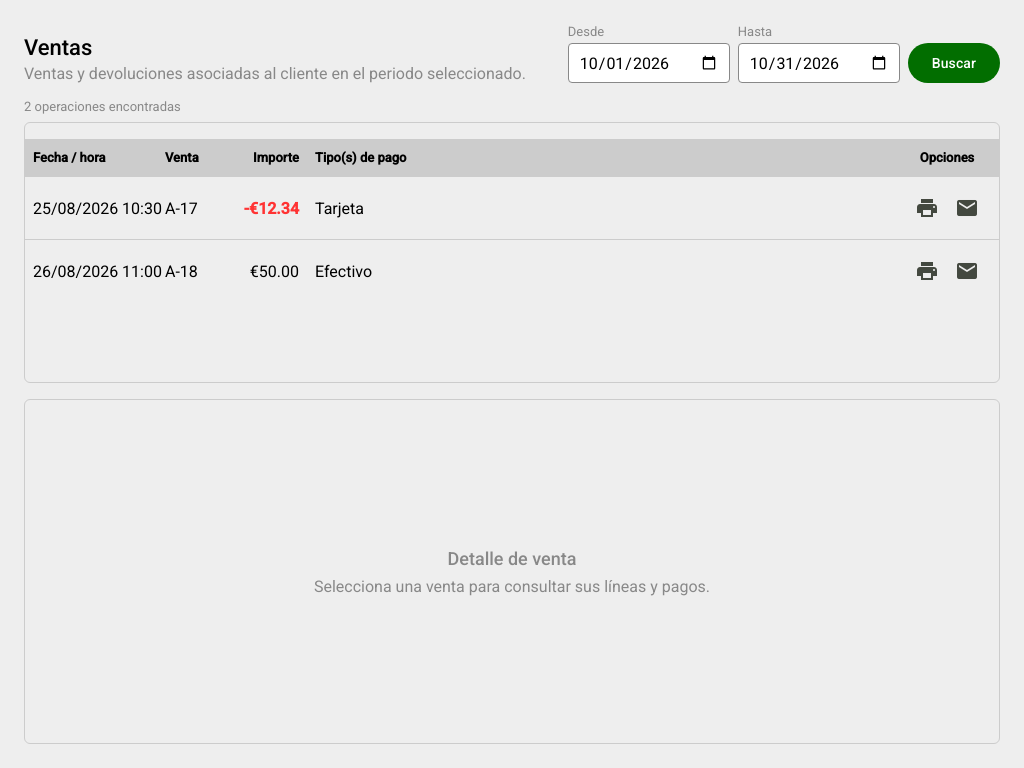
Test case: ClientSalesComponent › selecciona una venta y muestra su detalle en modo documental
Click the row with class "client-sales__row" that starts with "A-17" at (512, 208), box [25,176,999,240]
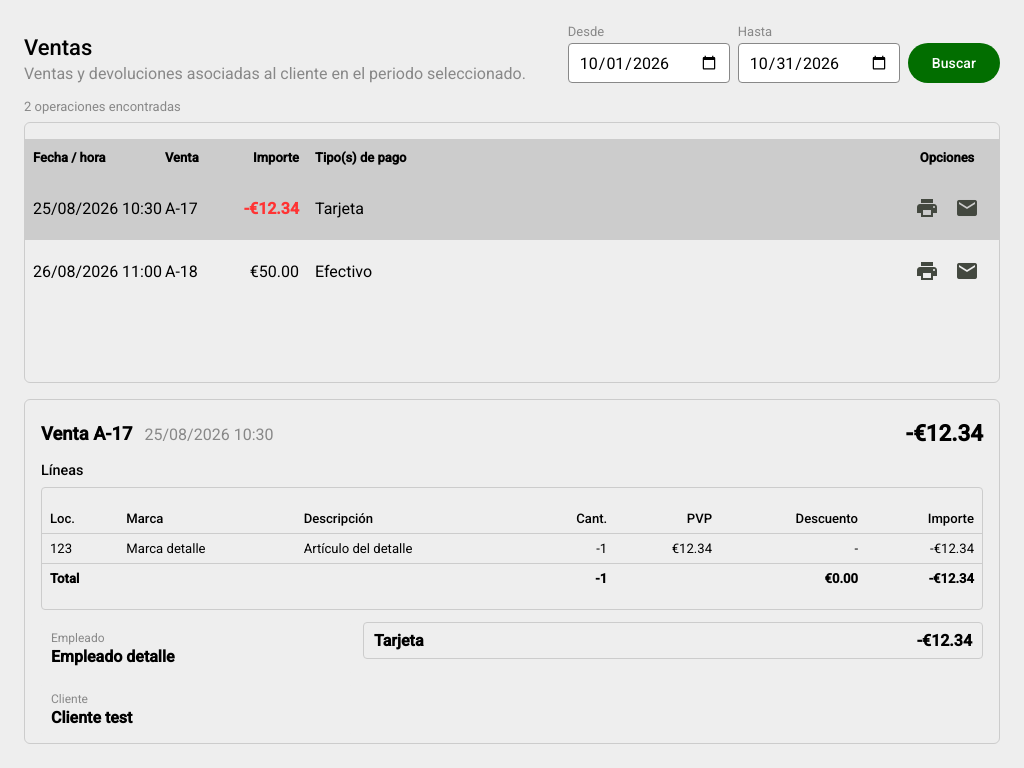
Expected: the text "Artículo del detalle" is shown, [296,534,528,564]
Expected: the text "Empleado detalle" is shown, [51,647,175,666]
